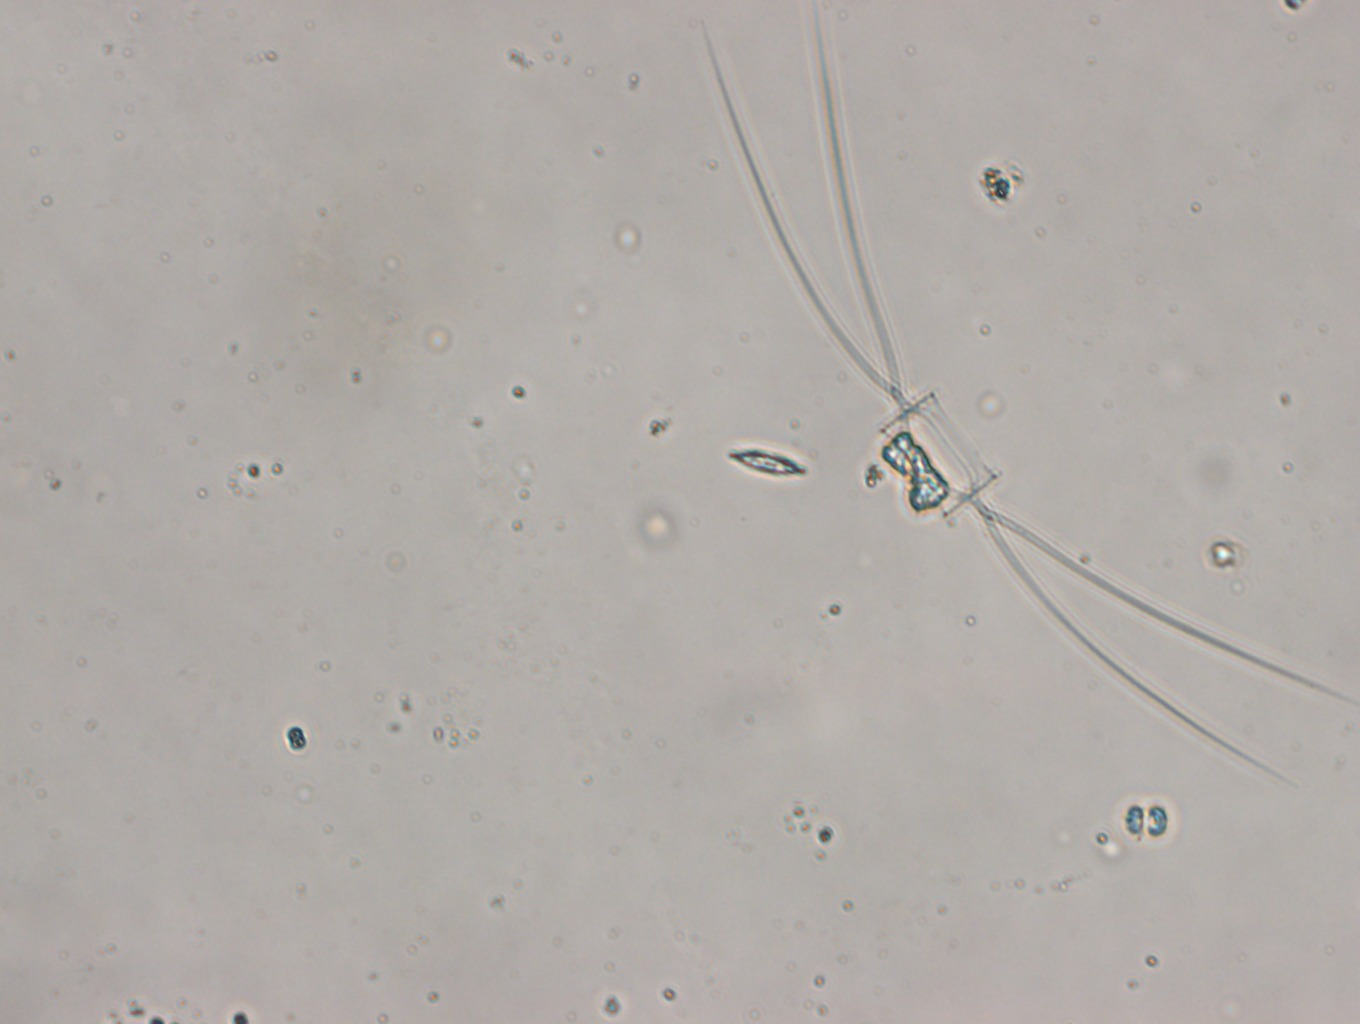chaetoceros: (695, 9, 1338, 793)
